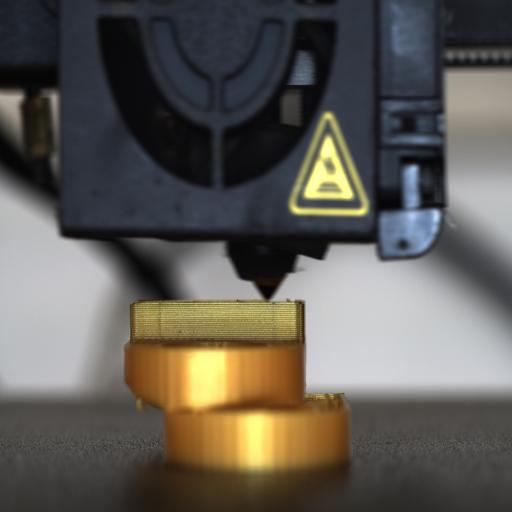layer_shift: (124, 378, 355, 418)
